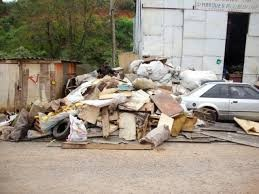rubble: (58, 62, 227, 132)
